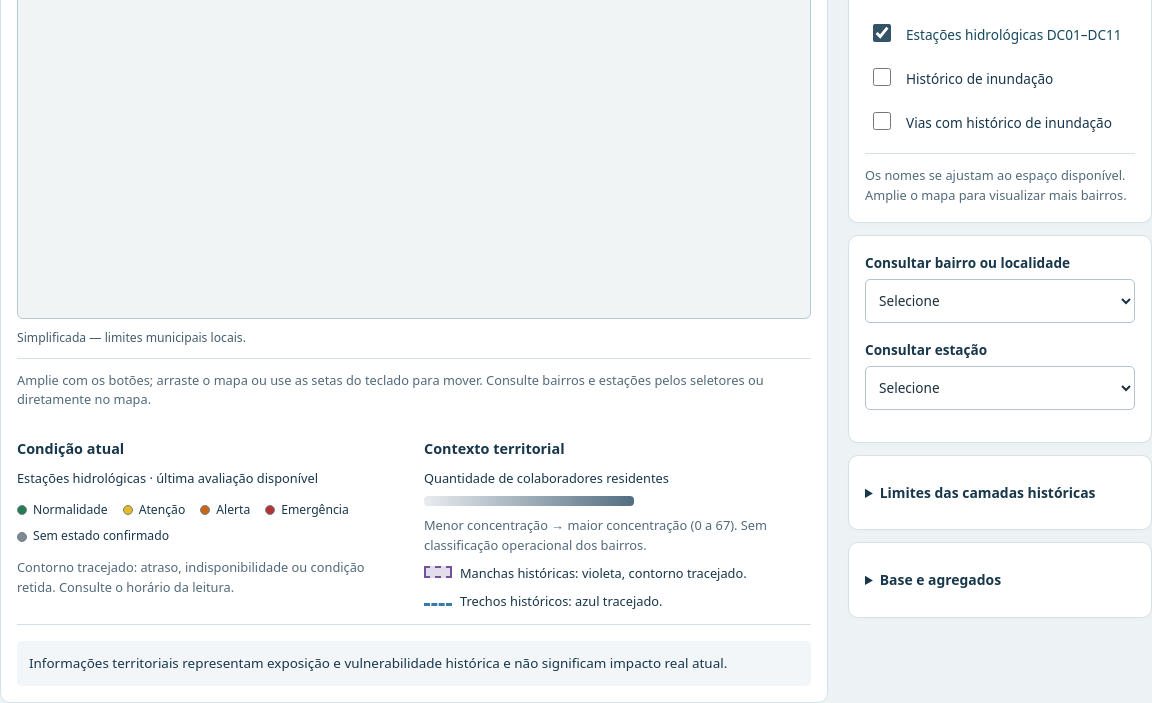
Fase 07 — regressão funcional do mapa migrado › detalhe da estação preserva limites dinâmicos, link e ausência de bairro associado
The width and height of the screenshot is (1152, 703).
(page scrolled)
Select "DC01 · Rio Itajaí-Açu - ICMBio/CEPSUL · Atenção" in the dropdown labelled "Consultar estação" at (1000, 388), box [865,366,1135,410]
(page scrolled)
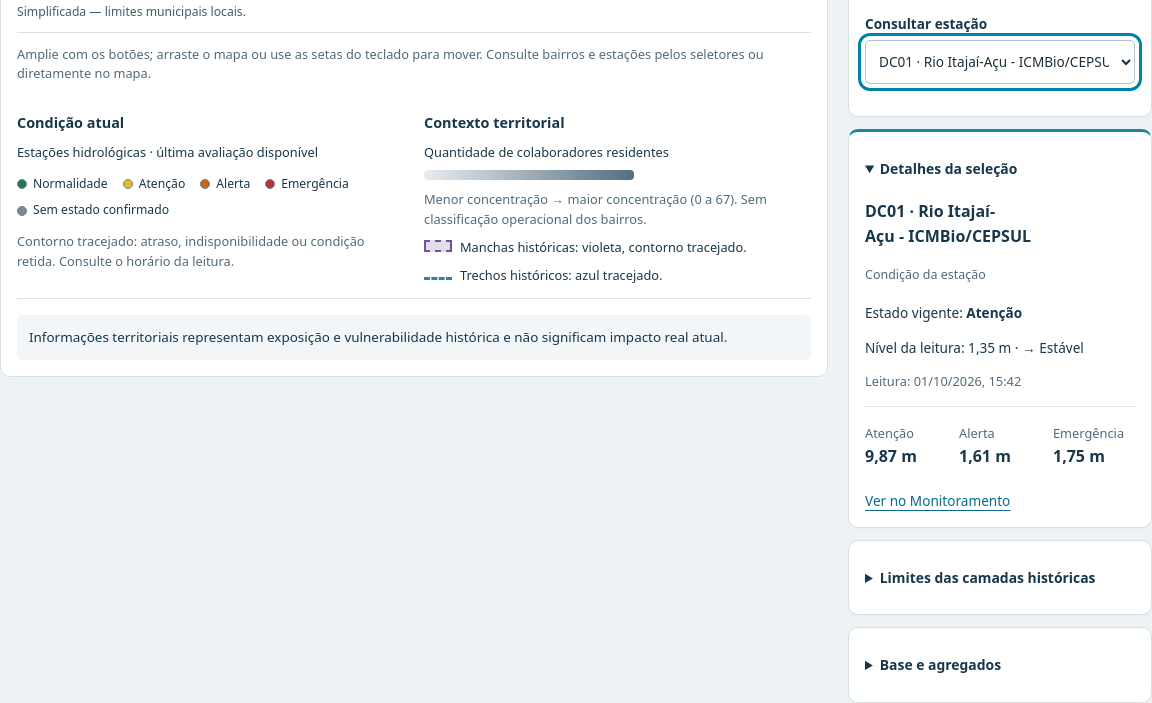
Expected: the text "9,87 m" is shown, [865,445,917,467]
